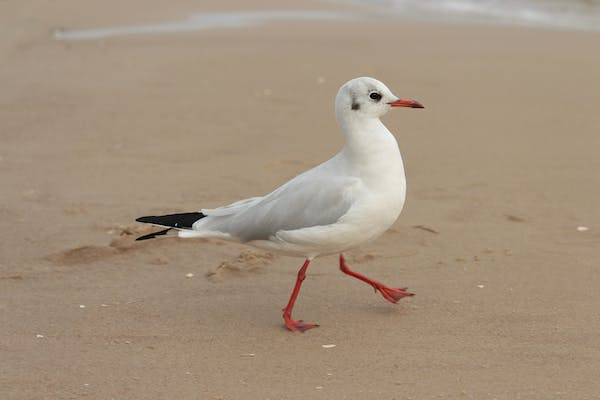Walking: (125, 74, 465, 349)
